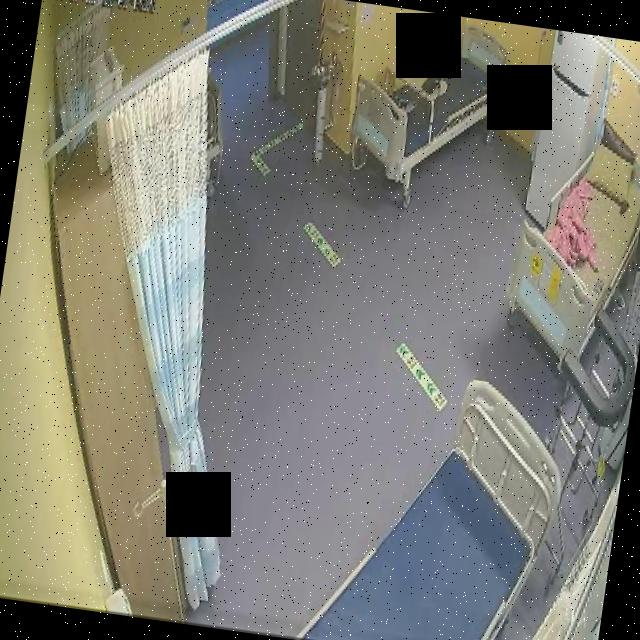bed: (298, 361, 575, 640), (494, 122, 640, 368), (344, 9, 516, 197)
